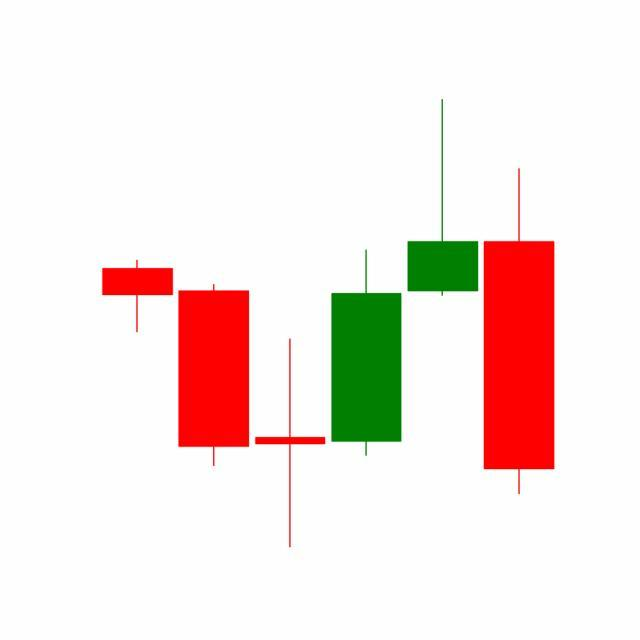Evening Star: (326, 100, 555, 500)
